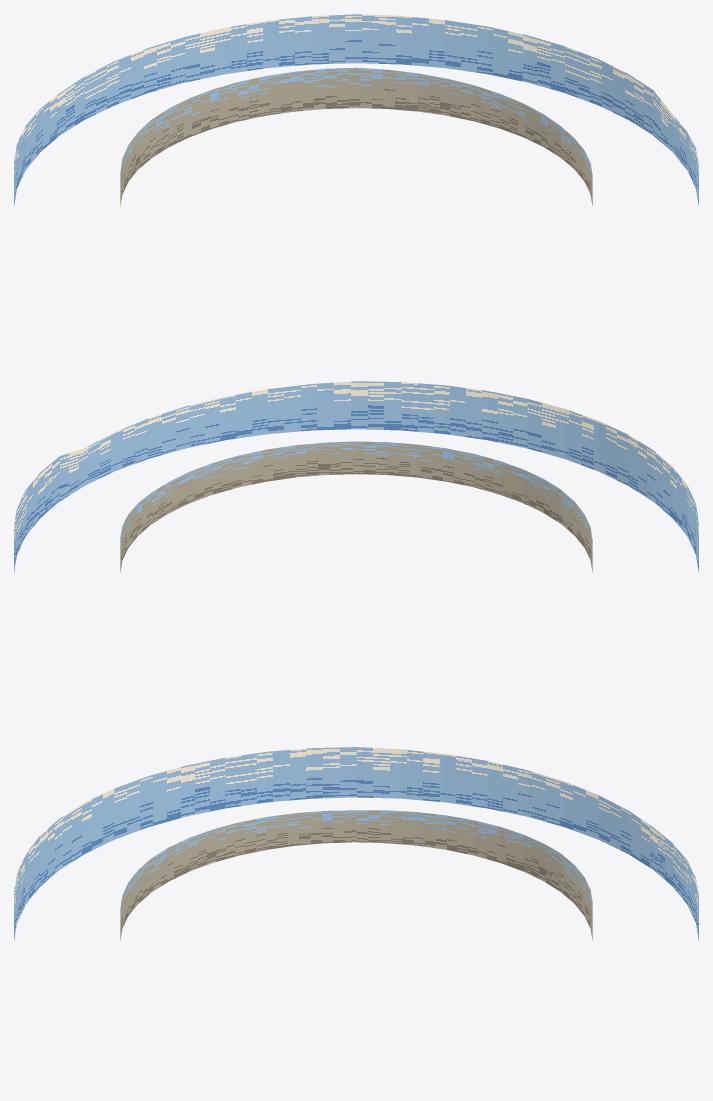
File: terrain.vista.glb
The picture shows the model from 3 angles, top to bottom: view 1: azimuth 30°, elevation 25°; view 2: azimuth 150°, elevation 25°; view 3: azimuth 270°, elevation 25°; orthographic projection.
Visible parts, largest first — view 1: kit_shell_vista_1, kit_shell_vista_0; view 2: kit_shell_vista_1, kit_shell_vista_0; view 3: kit_shell_vista_1, kit_shell_vista_0.
Part boxes in pixels (x1=…): kit_shell_vista_1: x1=14, y1=14, x2=698, y2=206; kit_shell_vista_0: x1=120, y1=67, x2=592, y2=206; kit_shell_vista_1: x1=14, y1=381, x2=698, y2=572; kit_shell_vista_0: x1=120, y1=441, x2=592, y2=572; kit_shell_vista_1: x1=14, y1=747, x2=698, y2=940; kit_shell_vista_0: x1=120, y1=810, x2=592, y2=940.
Size of the model in its own units: 174 by 14.46 by 174.
2 materials, 2 textured.
